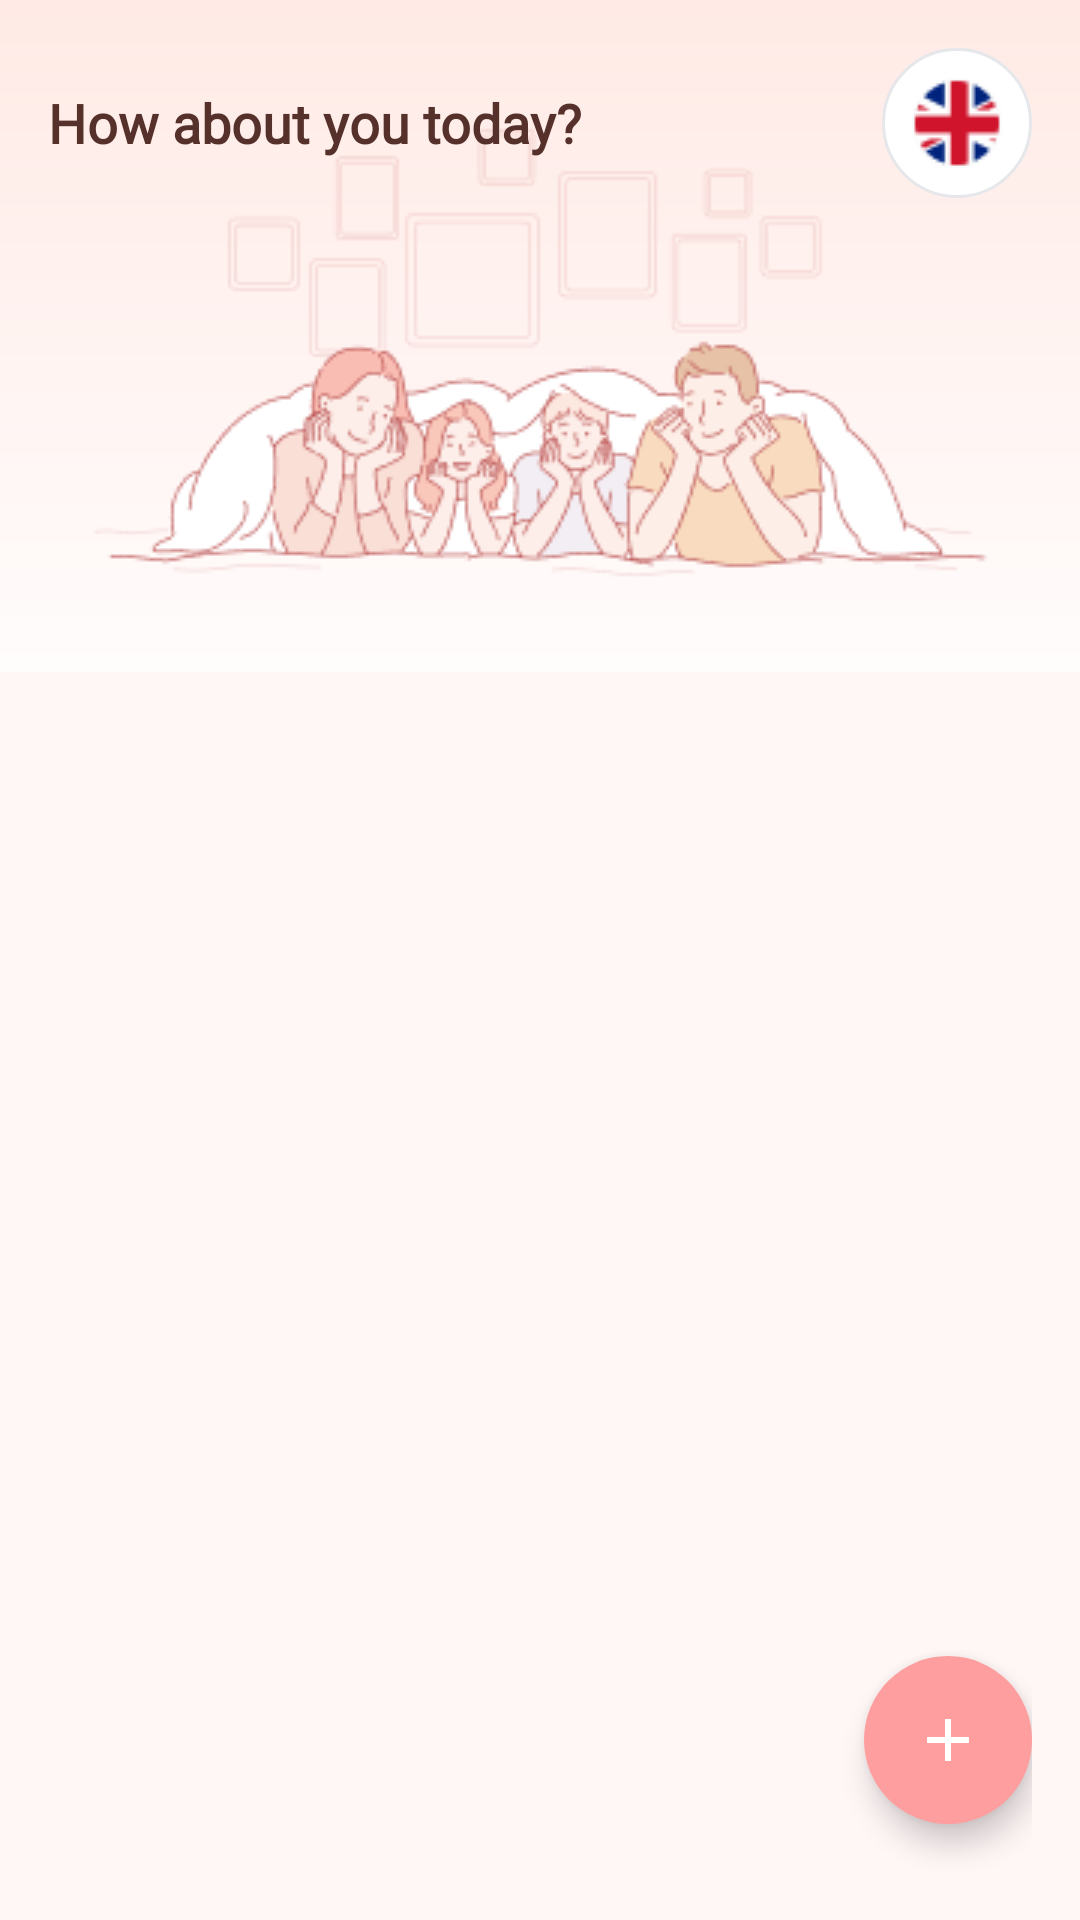

Icon click points for this 1080px x 1920px phone screenshot, format (x,y):
Add Entry: (948,1740)
Language: (957,123)
